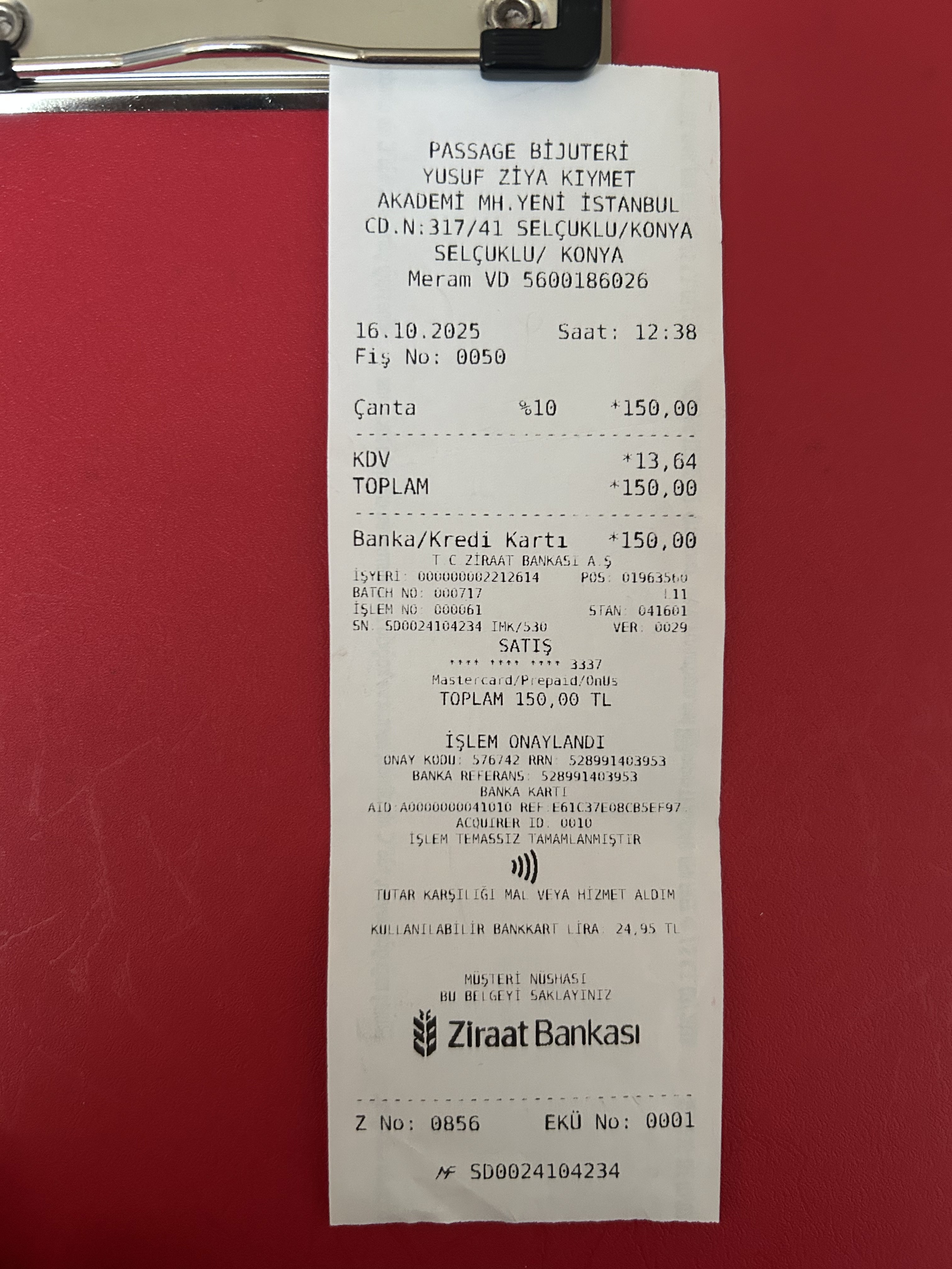date: (349, 315, 489, 346)
price: (619, 474, 711, 507)
workplace: (352, 132, 704, 268)
